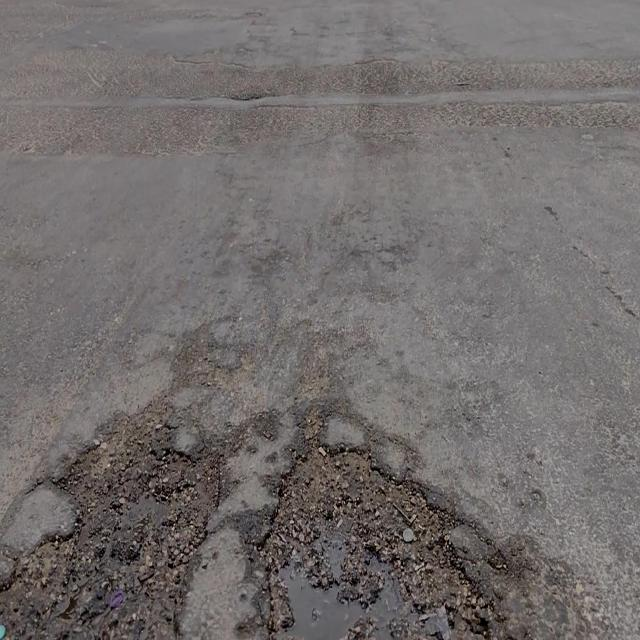Potholes: (0, 402, 220, 640), (248, 432, 501, 638)
